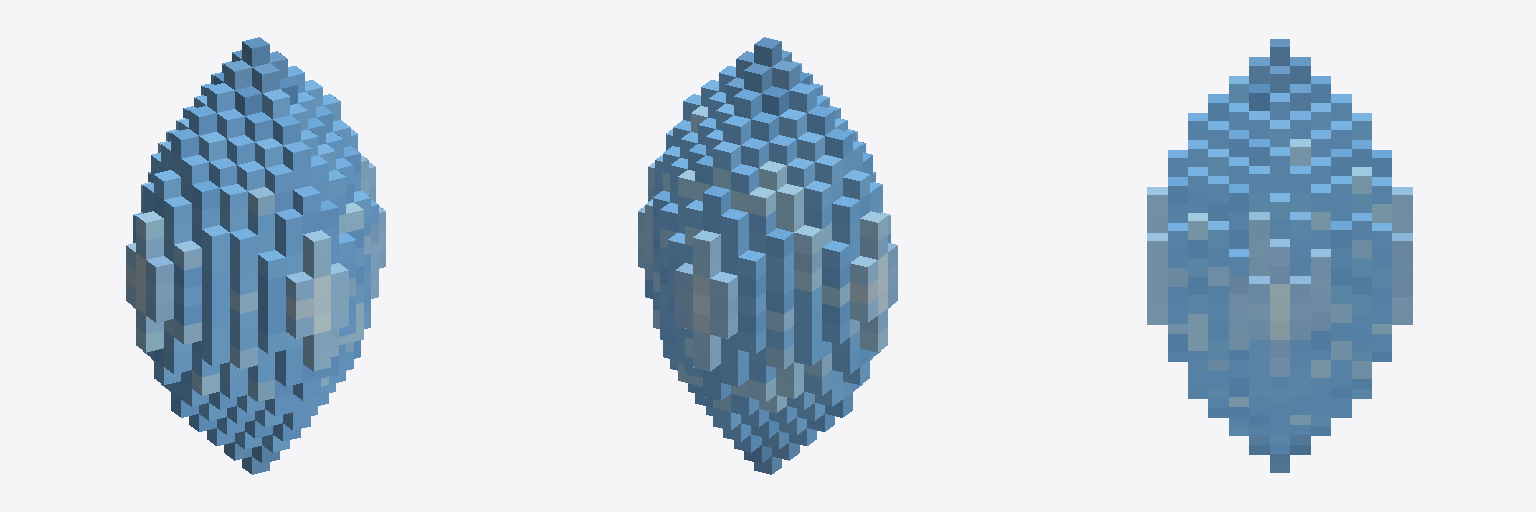
The picture shows the model from 3 angles: view 1: azimuth 30°, elevation 25°; view 2: azimuth 150°, elevation 25°; view 3: azimuth 270°, elevation 25°; orthographic projection.
Parts seen in each view (by area): view 1: FrostFiendFreeze-transparent; view 2: FrostFiendFreeze-transparent; view 3: FrostFiendFreeze-transparent.
Boxes of the visible parts, x1=… form: FrostFiendFreeze-transparent: x1=126, y1=37, x2=385, y2=474; FrostFiendFreeze-transparent: x1=638, y1=37, x2=897, y2=474; FrostFiendFreeze-transparent: x1=1147, y1=39, x2=1412, y2=472.
Size of the model in its own units: 13 by 23 by 13.
Materials: 1 (1 with a texture image).